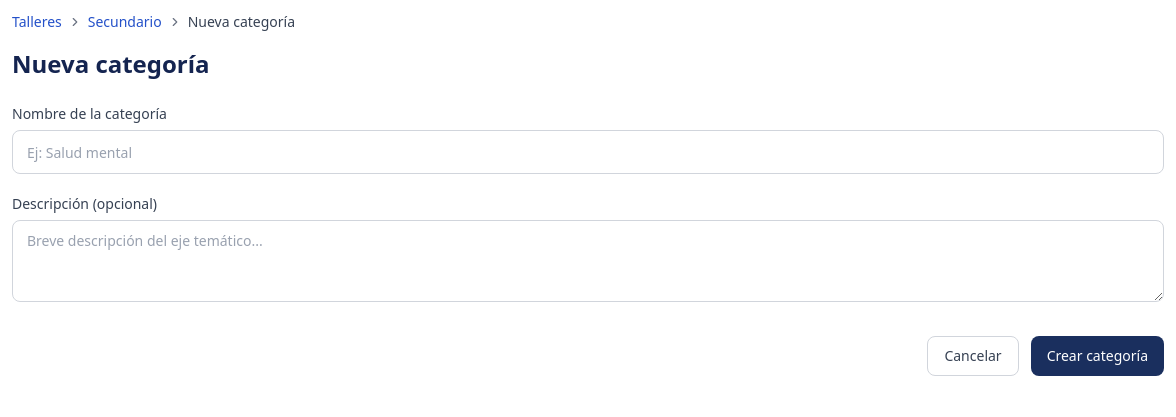
Test case: CategoriaFormPage: alta › con el nombre repetido en el nivel muestra el mensaje de duplicado y no navega
In the field labelled "Nombre de la categoría": (588, 152) [12,130,1164,174], type "salud MENTAL"
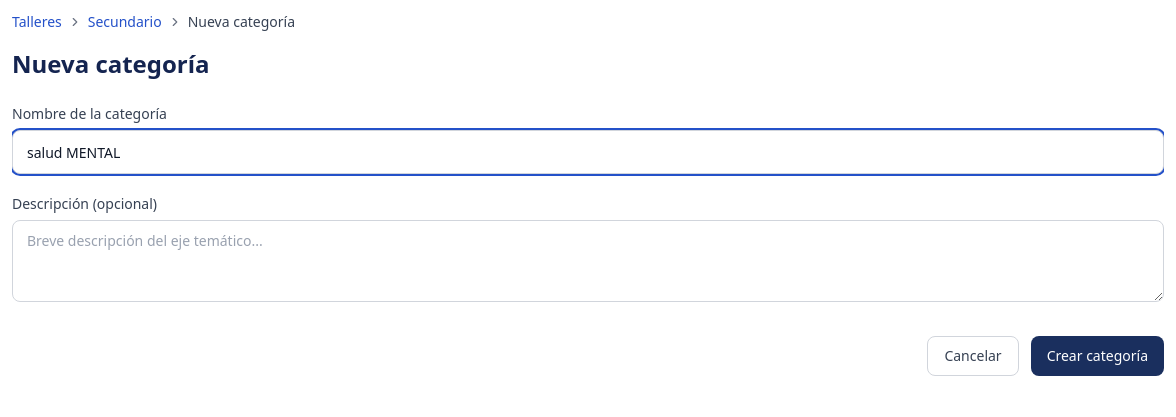
Click the button "Crear categoría": (1097, 356) [1031,336,1164,376]
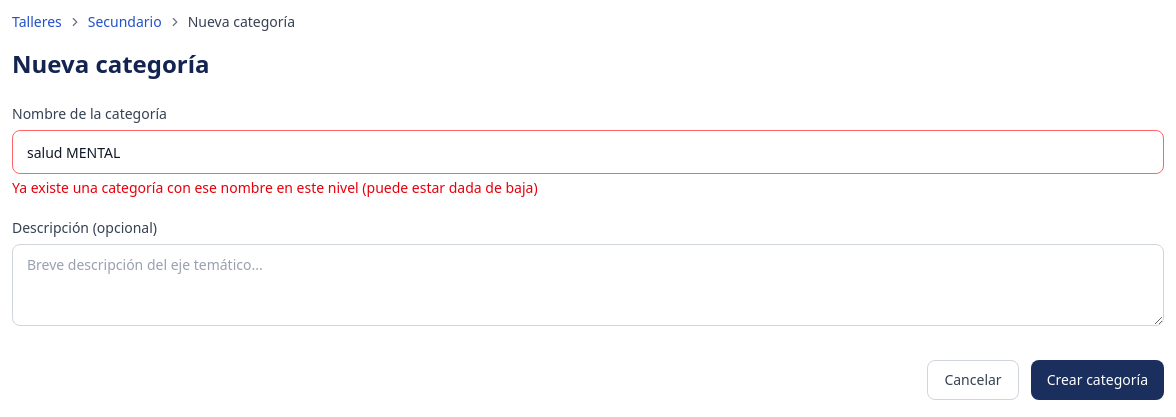
Expected: the text "Ya existe una categoría con ese nombre en este nivel (puede estar dada de baja)" is shown, [12,178,538,197]
